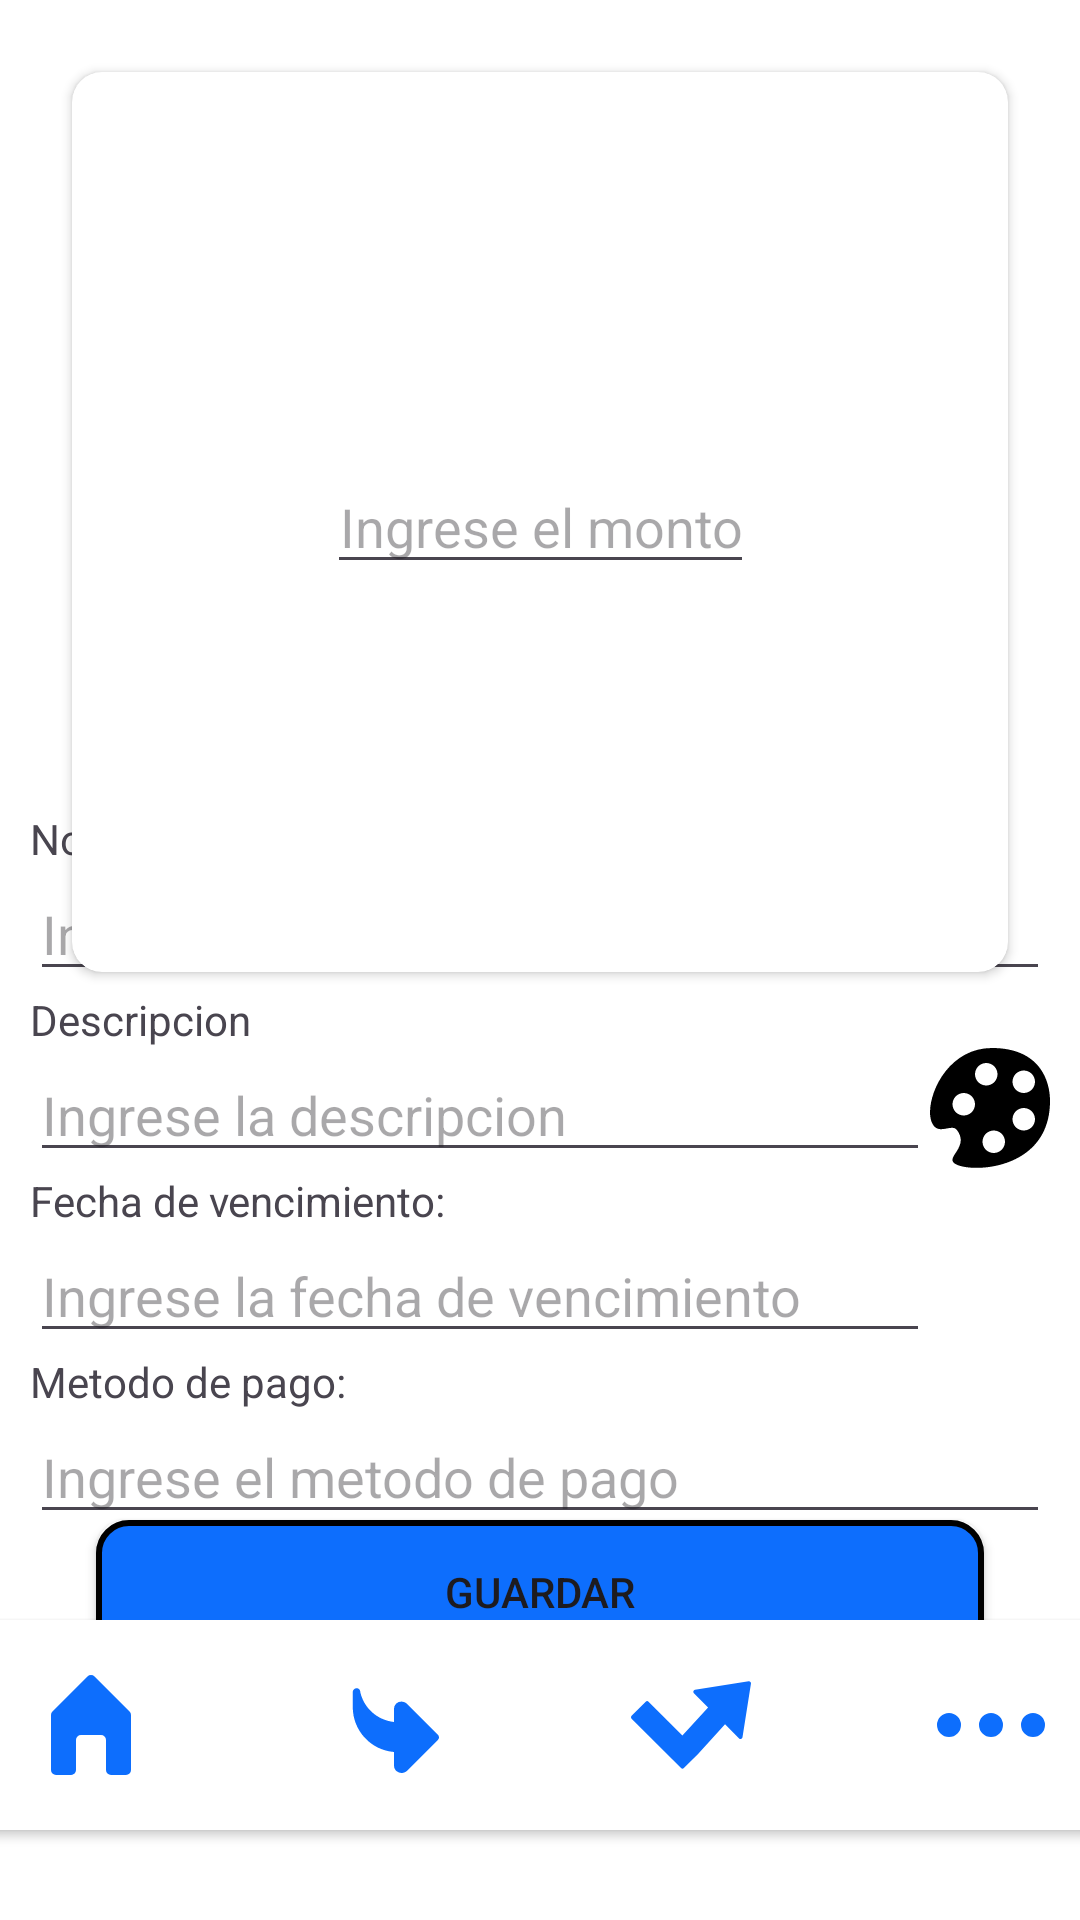

Icons on this 1080x1920 Android screen, each with the point to tap as [x,y]:
proximos: [395,1730]
seguimiento: [691,1725]
Seleccionar color: [990,1108]
